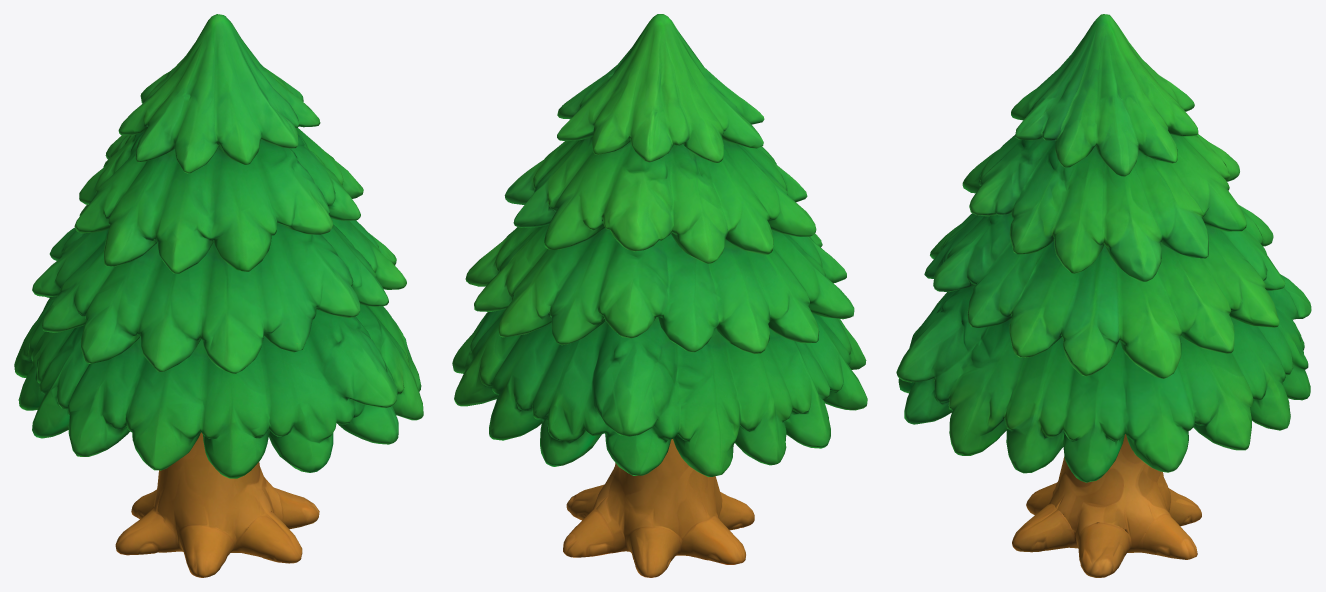
Rendered from compact.glb.
The picture shows the model from 3 angles, left to right: view 1: azimuth 30°, elevation 25°; view 2: azimuth 150°, elevation 25°; view 3: azimuth 270°, elevation 25°; orthographic projection.
Parts seen in each view (by area): view 1: tripo_node_3de8c105-e83b-4284-879c-751c20e098f1; view 2: tripo_node_3de8c105-e83b-4284-879c-751c20e098f1; view 3: tripo_node_3de8c105-e83b-4284-879c-751c20e098f1.
Part boxes in pixels (x1,y1,x2,y2): tripo_node_3de8c105-e83b-4284-879c-751c20e098f1: (14,14,423,577); tripo_node_3de8c105-e83b-4284-879c-751c20e098f1: (452,14,867,577); tripo_node_3de8c105-e83b-4284-879c-751c20e098f1: (896,14,1311,577).
Bounding box in the file's own units: 0.6959 × 0.9802 × 0.7116.
Materials: 1 (1 with a texture image).
